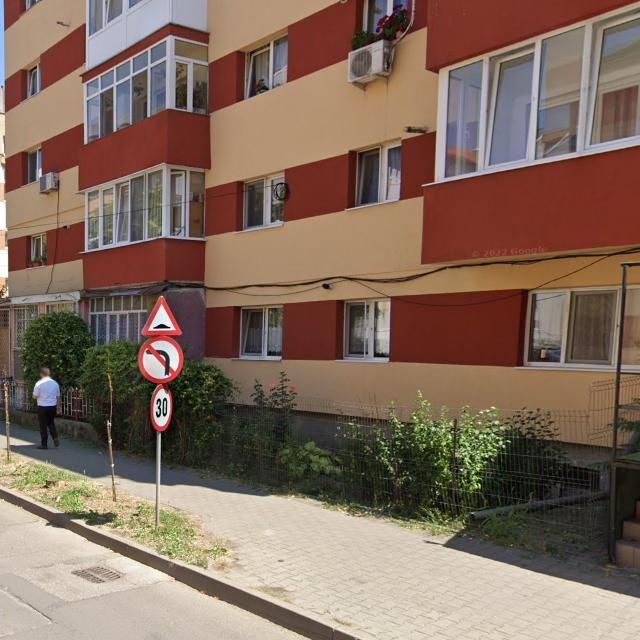forb_speed_over_30: (150, 385, 174, 432)
